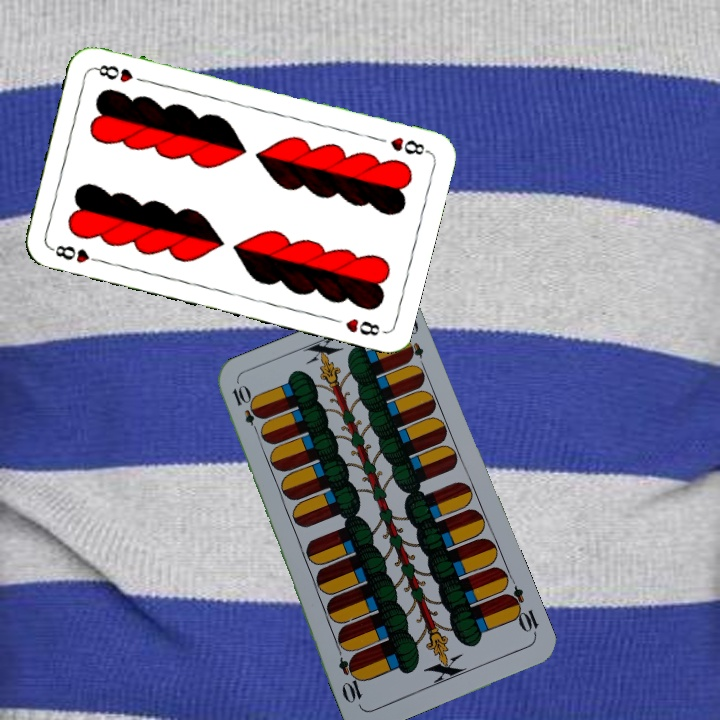E10: (501, 582, 541, 639), (228, 381, 264, 438)
H8: (46, 241, 104, 266), (387, 133, 432, 158)
